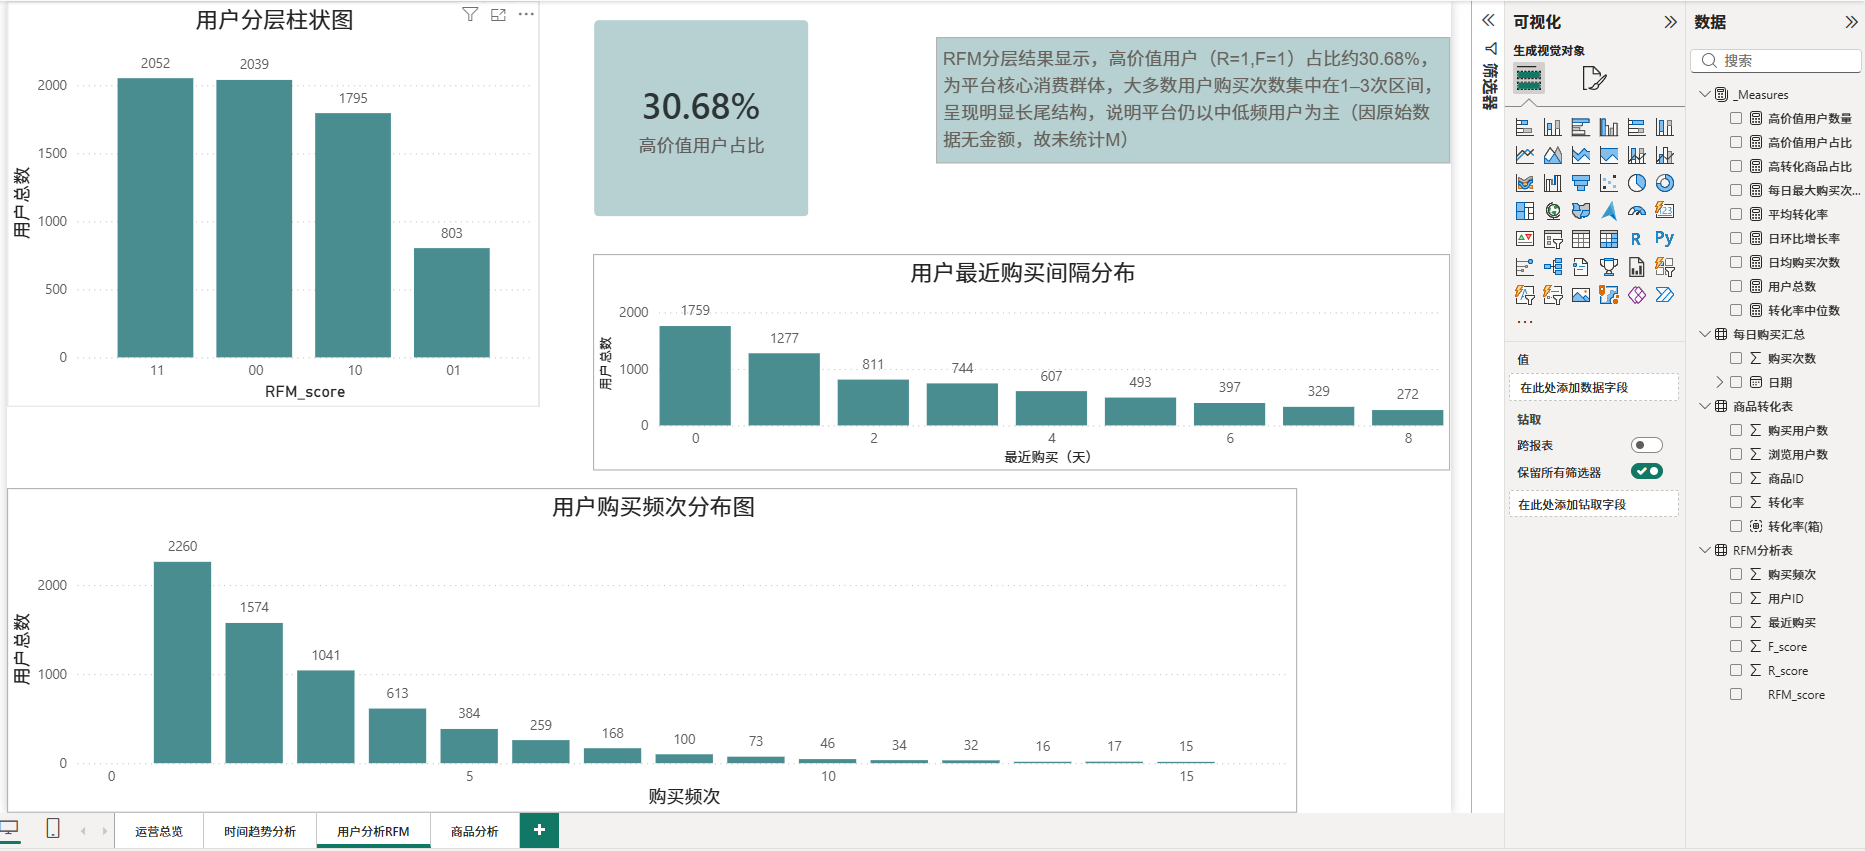

What the dashboard file says about the page in this screenshot:
{"tool":"powerbi","page":{"name":"用户分析RFM","canvas":[1280,720],"ordinal":2},"visuals":[{"type":"columnChart","title":"用户分层柱状图","fields":{"Category":["RFM分析表.RFM_score"],"Y":["Measures (.用户总数"]},"box":[0,0,472,360],"z":0},{"type":"columnChart","title":"用户购买频次分布图","fields":{"Category":["RFM分析表.frequency"],"Y":["Measures (.用户总数"]},"box":[0,432,1144,288],"z":1000},{"type":"columnChart","title":"用户最近购买间隔分布","fields":{"Category":["RFM分析表.recency"],"Y":["Measures (.用户总数"]},"box":[520,224,760,192],"z":2000},{"type":"textbox","box":[824,32,456,112],"z":3000},{"type":"cardVisual","fields":{"Data":["Measures (.高价值用户占比"]},"box":[504,0,224,208],"z":4000}]}

Visuals, with their boxes on the page's 1280x720 design canvas (x1, y1, x2, y2). These are canvas units, not pixel positions in the 1865x851 screenshot, which may show the page scaled, cropped or inside an application window:
"用户分层柱状图" columnChart: 0/0/472/360
"用户购买频次分布图" columnChart: 0/432/1144/720
"用户最近购买间隔分布" columnChart: 520/224/1280/416
textbox: 824/32/1280/144
cardVisual - Measures (.高价值用户占比: 504/0/728/208
